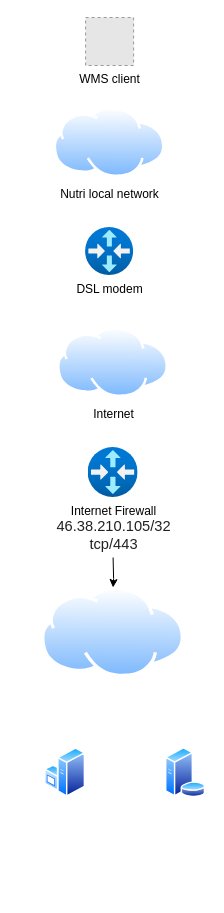
Image size: 224x913. Some labels were removed from this diagram. Grey dashed boxes stand in for pictures. Here are the shapes that lost their labels. From the top down, the box of each, then its label:
(41, 587, 184, 677): WoIP Cloud Network
(44, 747, 85, 797): ND-AS01 App Server Exact Web Server WMS http/80
(165, 747, 206, 797): ND-RS01 DB Server Exact
